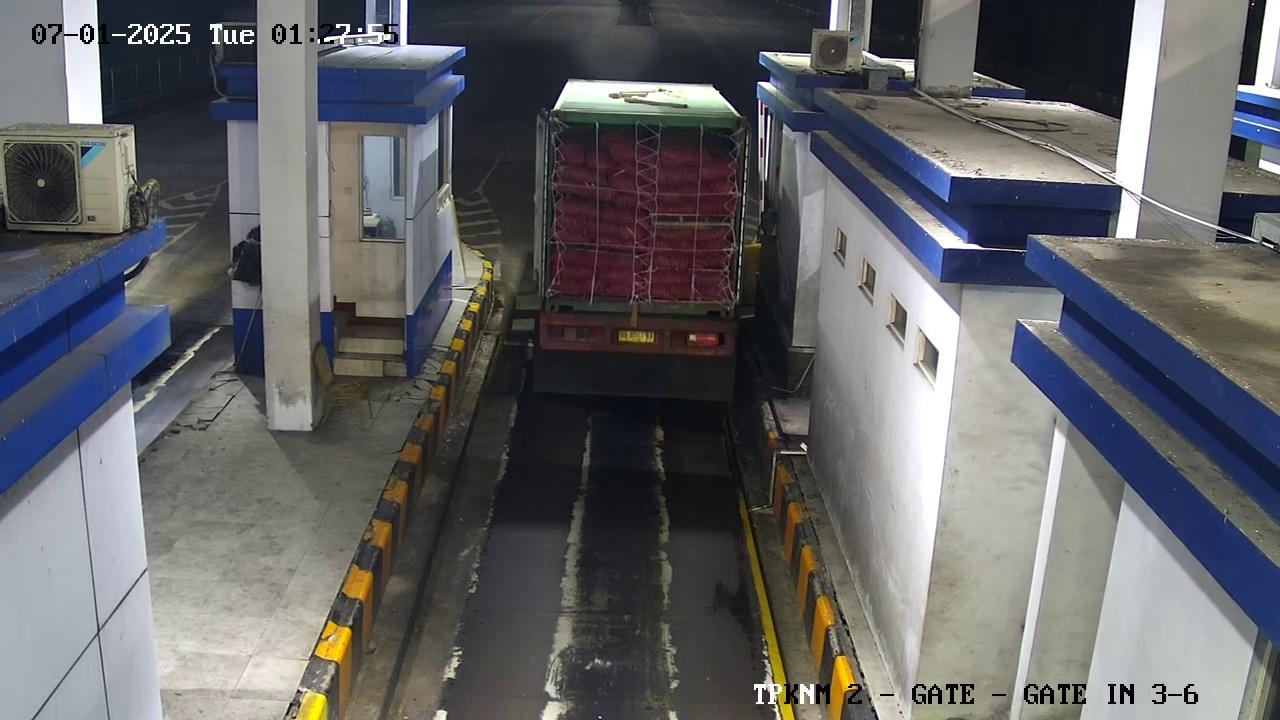plate_number: (615, 320, 663, 347)
